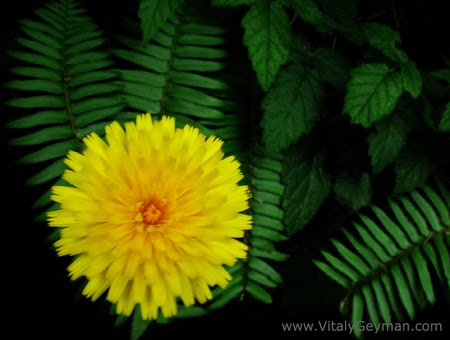dandelion: (45, 110, 265, 310)
